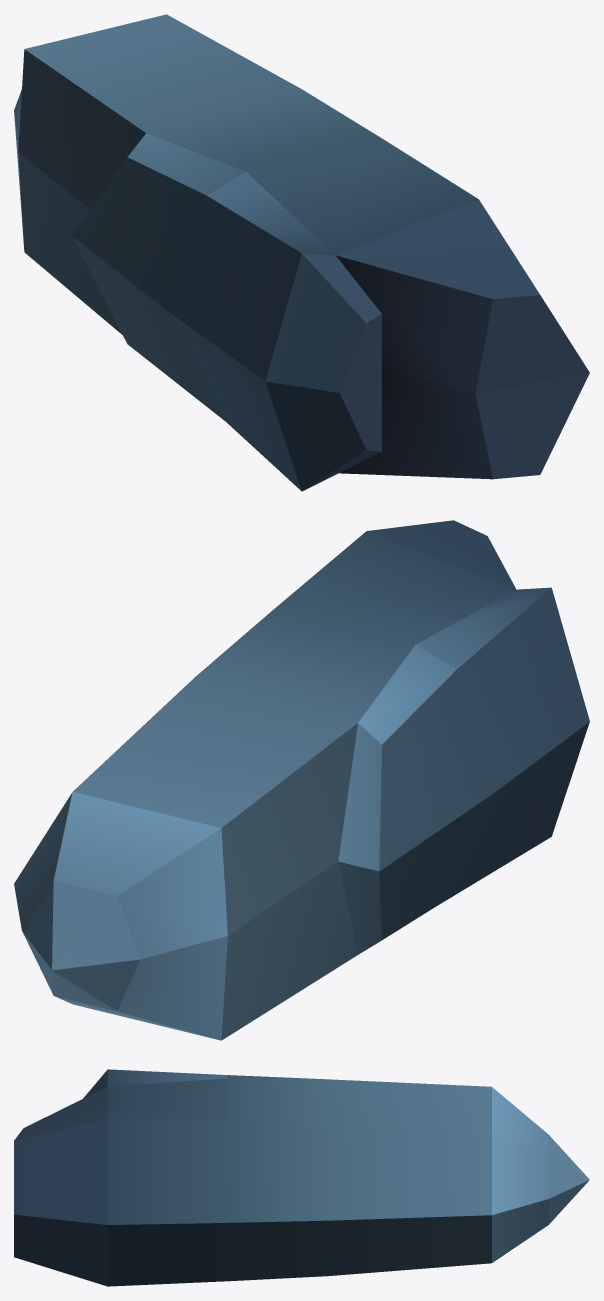
Rendered from IceCrystal.001.glb.
3 renders of one model, top to bottom at view 1: azimuth 30°, elevation 25°; view 2: azimuth 150°, elevation 25°; view 3: azimuth 270°, elevation 25°, orthographic. The views are drawn at different scales.
Parts seen in each view (by area): view 1: IceCrystal.001; view 2: IceCrystal.001; view 3: IceCrystal.001.
Boxes of the visible parts, bbox=[...] form: IceCrystal.001: bbox=[14, 14, 589, 491]; IceCrystal.001: bbox=[14, 520, 589, 1040]; IceCrystal.001: bbox=[14, 1069, 589, 1286].
Size of the model in its own units: 221 by 192 by 595.
